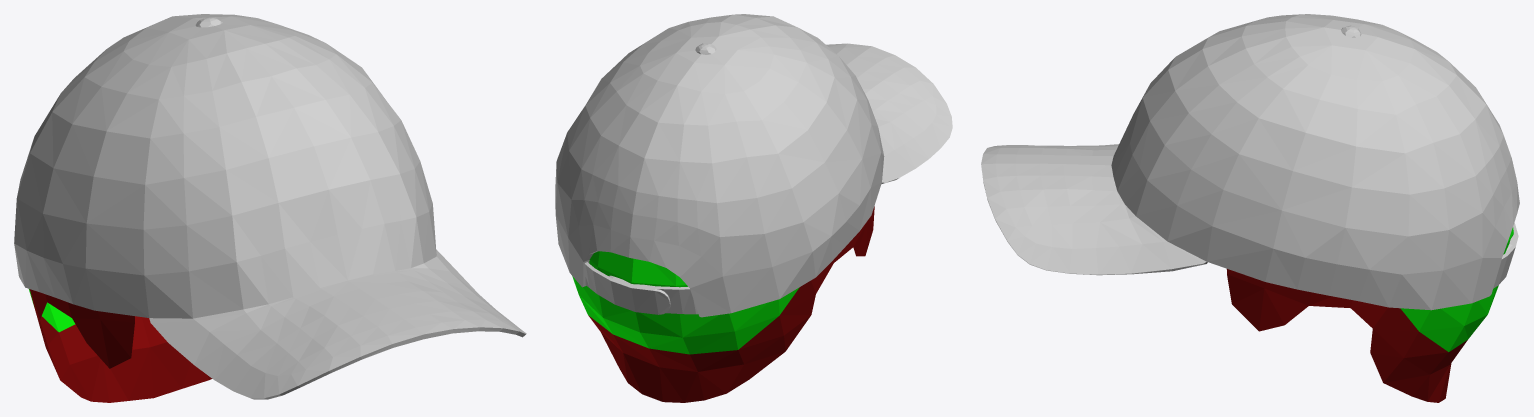
Rendered from BaseballHat_Hair_03.obj.
The picture shows the model from 3 angles, left to right: view 1: azimuth 30°, elevation 25°; view 2: azimuth 150°, elevation 25°; view 3: azimuth 270°, elevation 25°; orthographic projection. The views are drawn at different scales.
Size of the model in its own units: 17.11 by 19.88 by 26.81.
